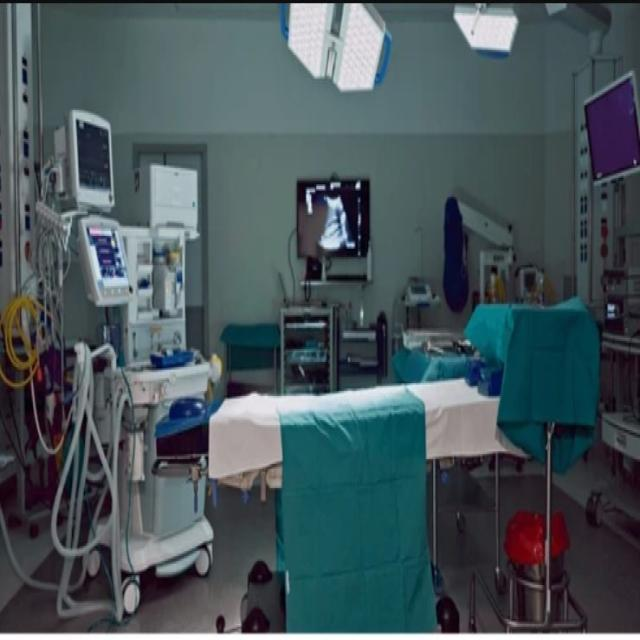Monitor: (52, 104, 130, 216), (70, 189, 134, 324), (579, 68, 640, 199)
bed: (158, 291, 602, 640)
bin: (491, 495, 584, 631)
